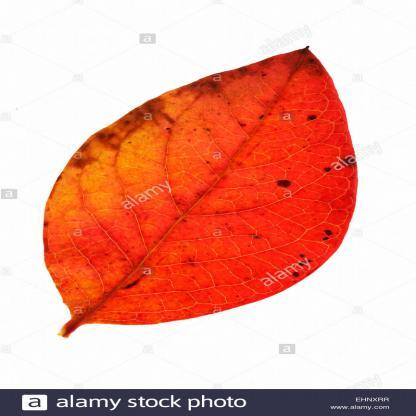Blueberry leaf: (32, 39, 368, 363)
